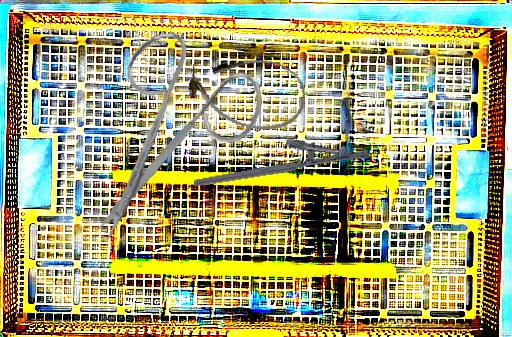Cannula: (183, 45, 311, 138)
Iris Scissors: (75, 24, 275, 243)
Needle Holder: (189, 126, 373, 188)
